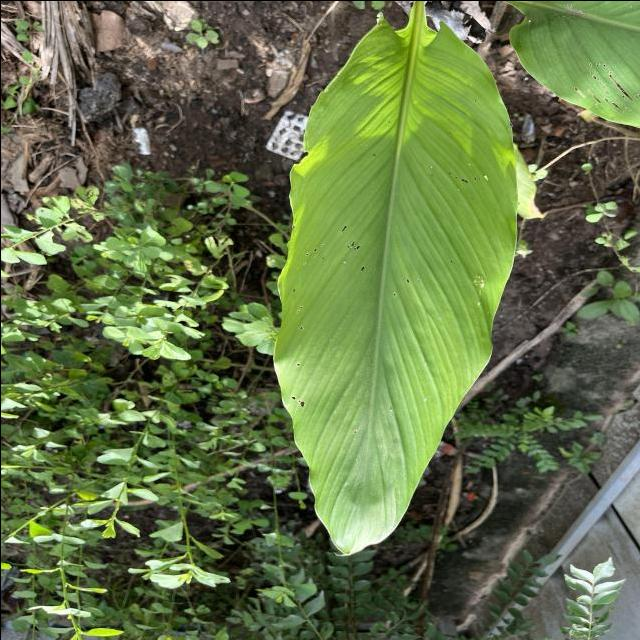Curcuma longa: (269, 10, 522, 560)
